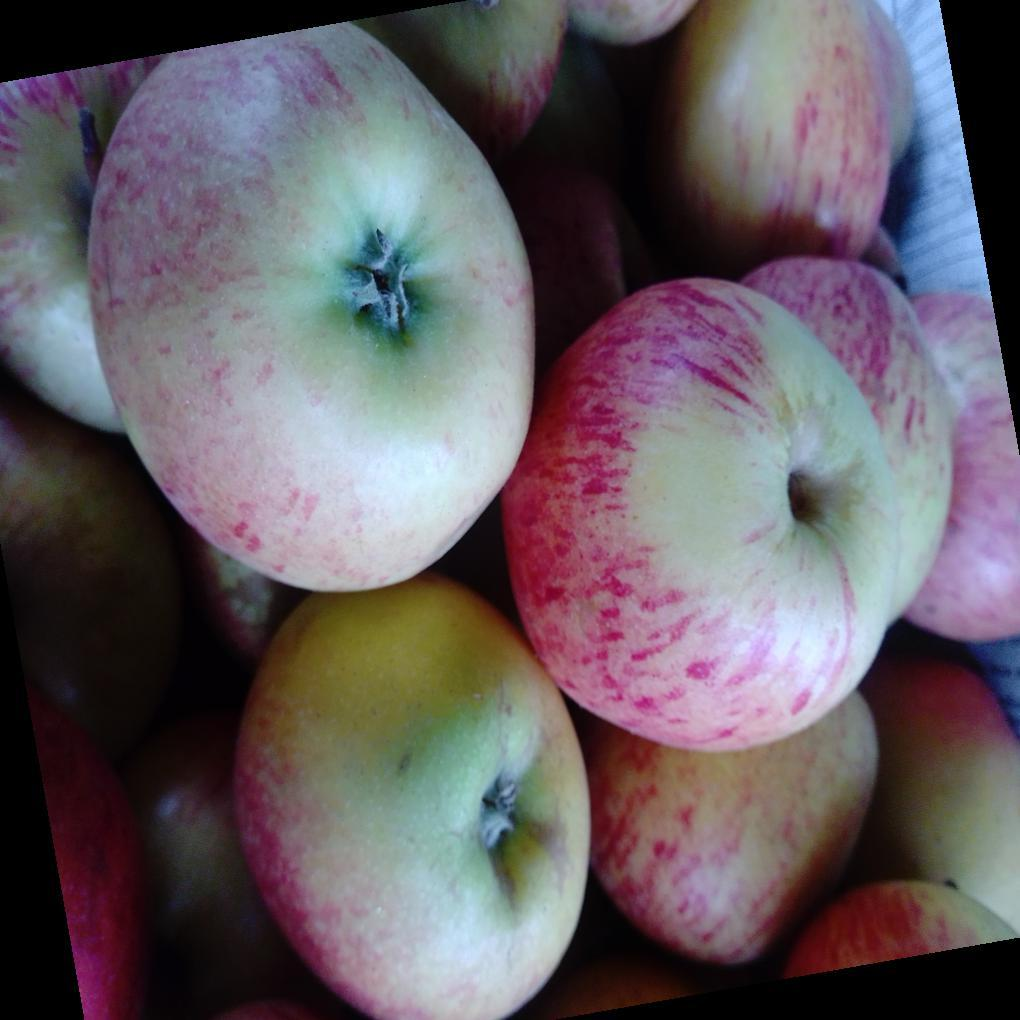FreshGuava: (18, 20, 1020, 1020)
